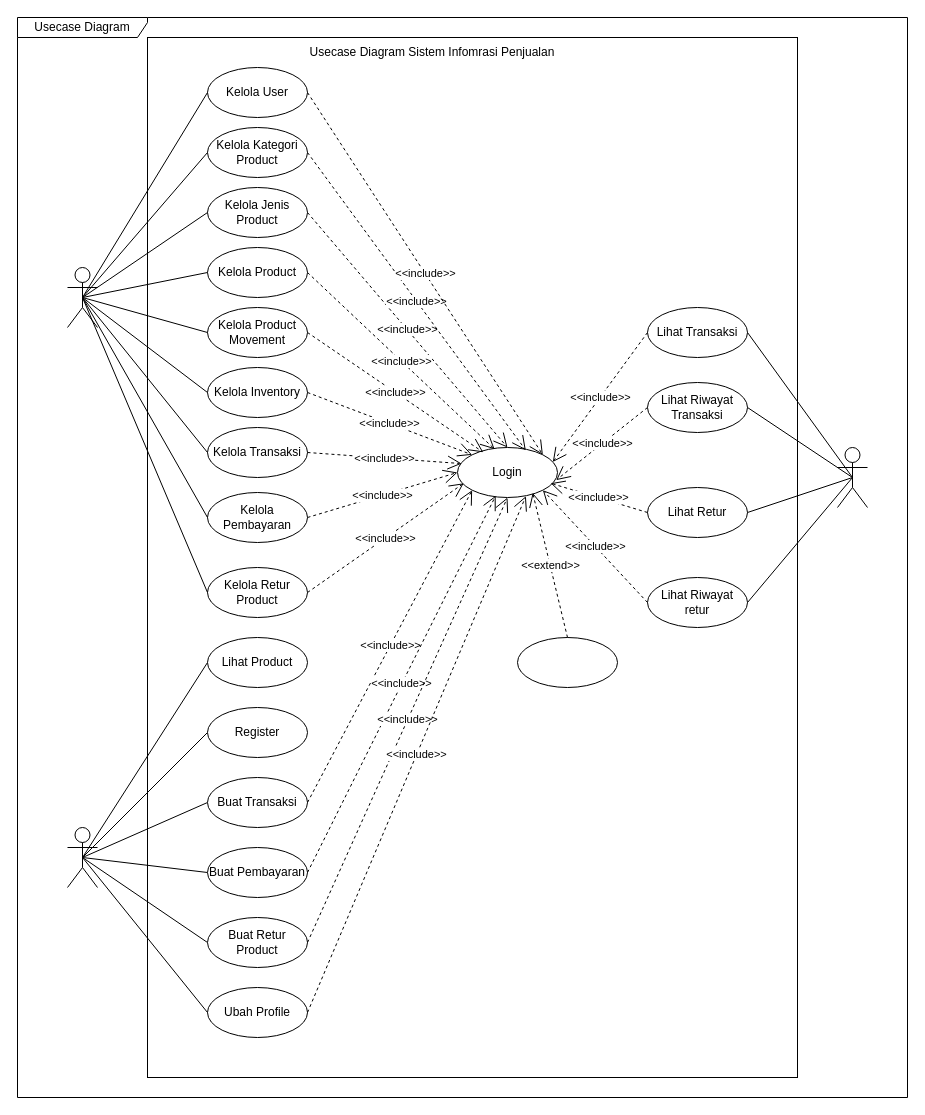
The diagram is 925 pixels wide and 1115 high, and some of its shapes have lost their labels. Here are the shapes that lost their labels. From the top down, the centre of each, then its label:
At pixel 82 297: "Admin".
At pixel 852 477: "Kepala Produksi".
At pixel 567 662: "Lupa Password".
At pixel 82 857: "Customer".
